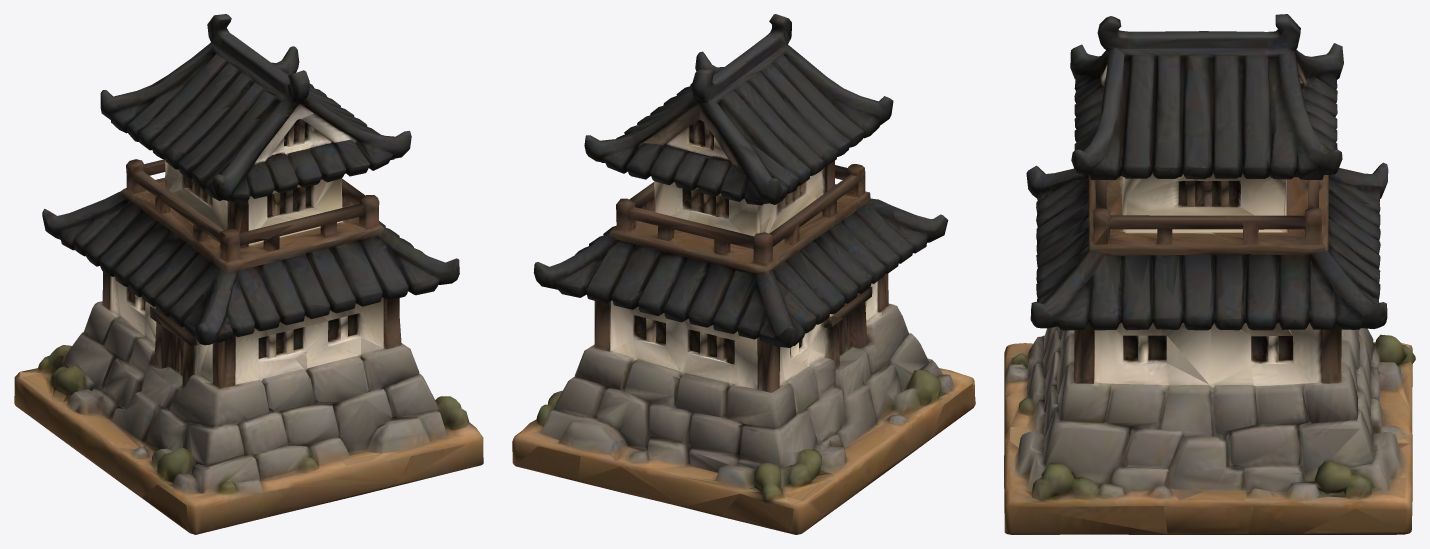
The model's file is keep.glb.
3 renders of one model, left to right at view 1: azimuth 30°, elevation 25°; view 2: azimuth 150°, elevation 25°; view 3: azimuth 270°, elevation 25°, orthographic. The views are drawn at different scales.
Parts seen in each view (by area): view 1: tripo_node_1517c02a-68eb-4791-8f74-1c4543473c09; view 2: tripo_node_1517c02a-68eb-4791-8f74-1c4543473c09; view 3: tripo_node_1517c02a-68eb-4791-8f74-1c4543473c09.
Part boxes in pixels (x1,y1,x2,y2): tripo_node_1517c02a-68eb-4791-8f74-1c4543473c09: (14,14,483,534); tripo_node_1517c02a-68eb-4791-8f74-1c4543473c09: (512,14,975,534); tripo_node_1517c02a-68eb-4791-8f74-1c4543473c09: (1004,14,1415,534).
Size of the model in its own units: 0.7689 by 0.9789 by 0.8262.
1 material, 1 textured.
